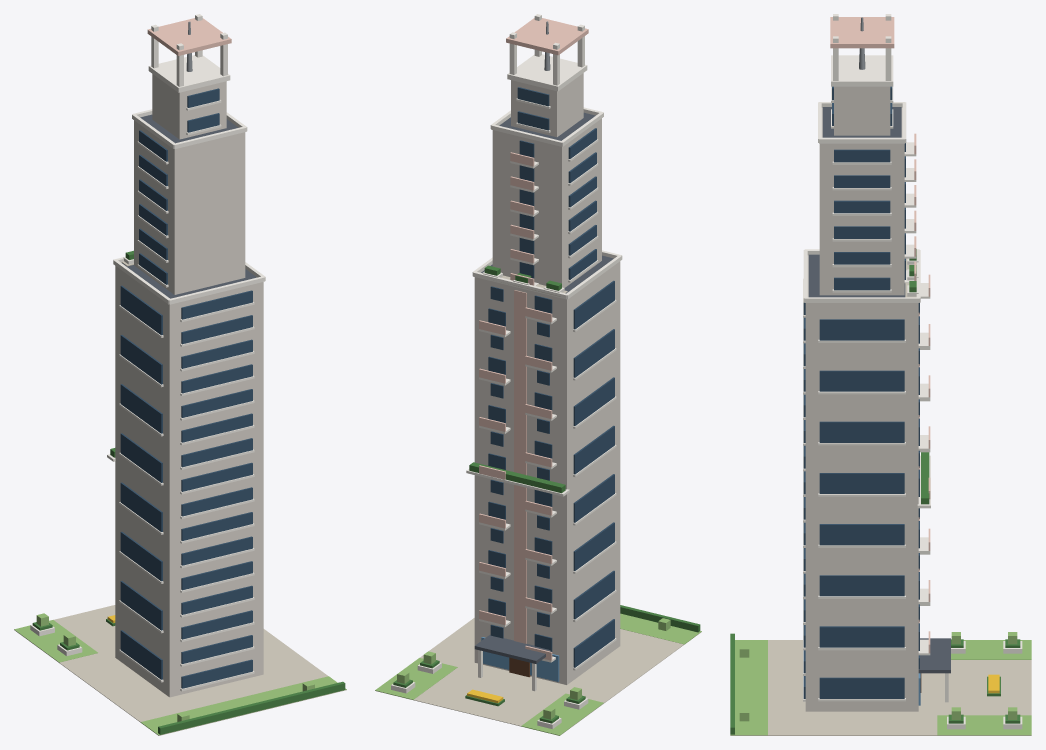
3 views of the same model, side by side, from view 1: azimuth 30°, elevation 25°; view 2: azimuth 150°, elevation 25°; view 3: azimuth 270°, elevation 25° (orthographic). The views are drawn at different scales.
Parts seen in each view (by area): view 1: tower, window_band (×24), tower_upper, court, lawn (×2), tower_top, crown_ring, hedge, crown, roof, parapet; view 2: tower, tower_upper, court, window_band (×8), panel, lawn (×3), tower_top, crown_ring, crown, canopy, storefront, sky_garden_hedge (+2 smaller); view 3: tower, window_band (×14), court, tower_upper, lawn (×3), tower_top, crown_ring, crown, roof (×2), parapet (×2), canopy, hedge.
Boxes of the visible parts, x1,y1,x2,y2 form: tower: (115, 266, 263, 697); window_band (×24): (120, 285, 252, 688); tower_upper: (134, 120, 245, 294); court: (14, 605, 346, 735); lawn (×2): (14, 620, 346, 735); tower_top: (152, 74, 226, 139); crown_ring: (147, 18, 231, 55); hedge: (158, 681, 345, 734); crown: (148, 55, 230, 92); roof: (122, 263, 256, 298); parapet: (168, 276, 265, 304); tower: (474, 261, 620, 684); tower_upper: (492, 118, 601, 287); court: (375, 618, 700, 733); window_band (×8): (573, 280, 614, 667); panel: (514, 290, 526, 643); lawn (×3): (375, 613, 701, 735); tower_top: (511, 73, 583, 137); crown_ring: (506, 18, 588, 55); crown: (507, 54, 587, 91); canopy: (474, 635, 550, 663); storefront: (481, 637, 559, 681); sky_garden_hedge: (469, 462, 565, 493); tower: (805, 255, 918, 711); window_band (×14): (819, 149, 904, 698); court: (730, 640, 1031, 735); tower_upper: (819, 107, 904, 295); lawn (×3): (730, 640, 1031, 735); tower_top: (834, 86, 890, 135); crown_ring: (830, 17, 894, 48); crown: (831, 55, 893, 86); roof (×2): (808, 107, 905, 297); parapet (×2): (804, 137, 919, 302); canopy: (918, 638, 950, 673); hedge: (730, 633, 734, 734).
Bounding box in the file's own units: 24 × 78.6 × 32.
